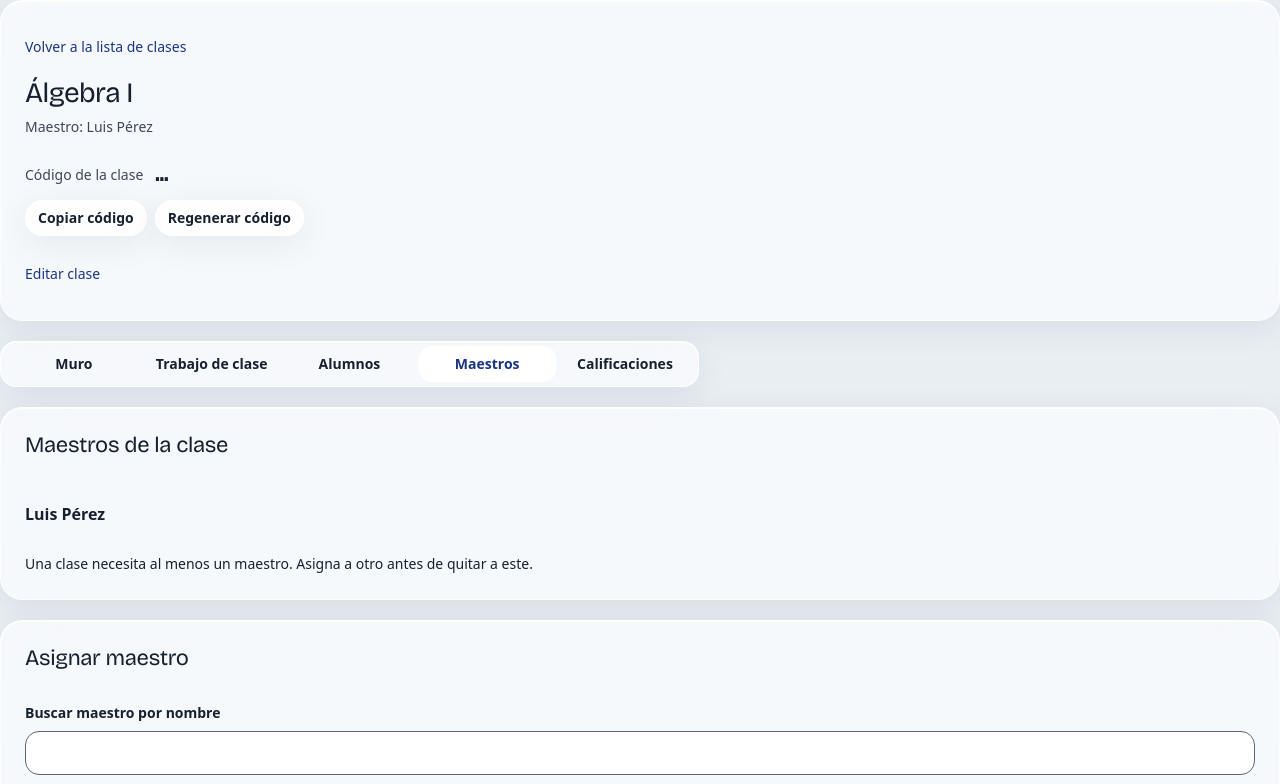
Scenario: ataque CLASES-02c r2: la ventana entre el 200 y la recarga, en los hermanos de T-02 › «Asignar a la clase» (maestros), segundo clic a 0 ms tras el repintado (botón ya en espera): una sola petición, un solo aviso, el botón en espera (aria-busy, si
Check: the heading "Maestros de la clase" is shown, box [25, 432, 228, 458]
Type "Mari" into the field labelled "Buscar maestro por nombre" at (640, 753), box [25, 731, 1255, 775]
(page scrolled)
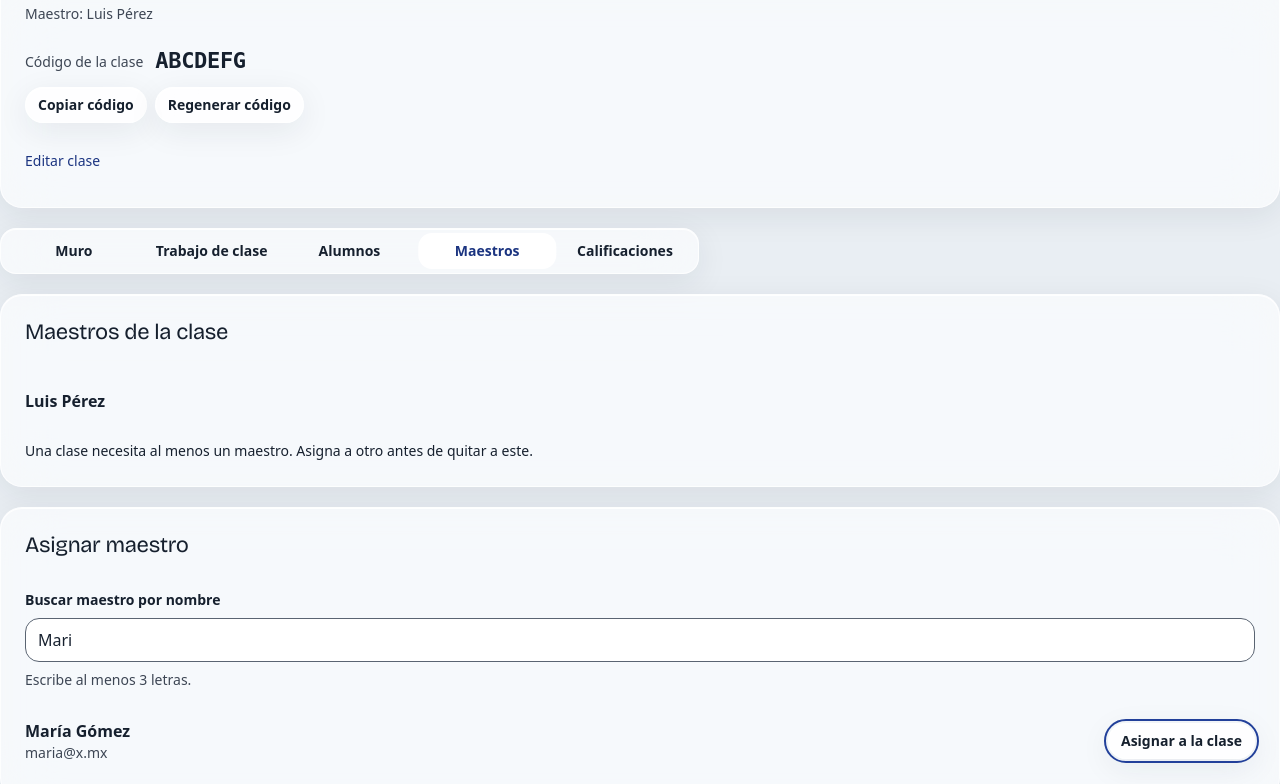
Click the button named "Asignar a la clase María Gómez" at (1182, 741), box [1108, 723, 1255, 759]
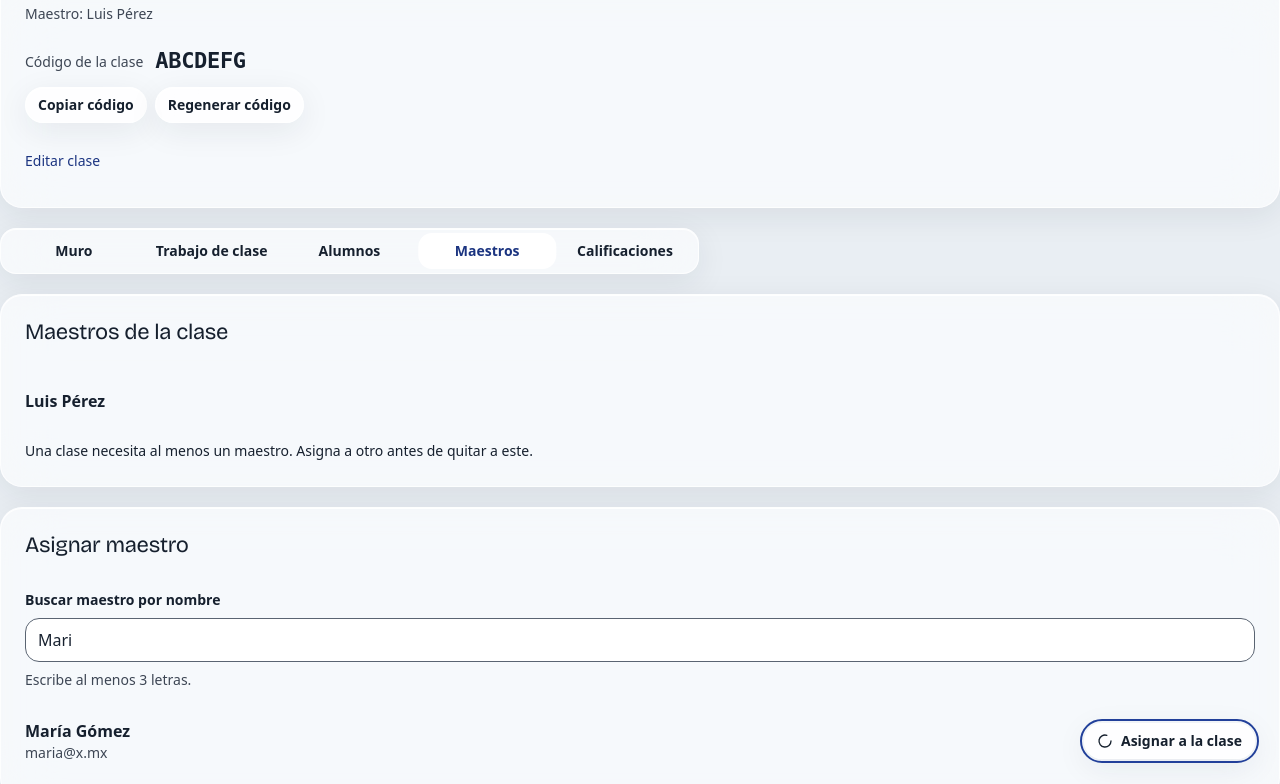
Check: the button named "Asignar a la clase María Gómez" has attribute aria-busy="true"
Click the button named "Asignar a la clase María Gómez" at (1170, 741), box [1084, 723, 1255, 759]
(page scrolled)
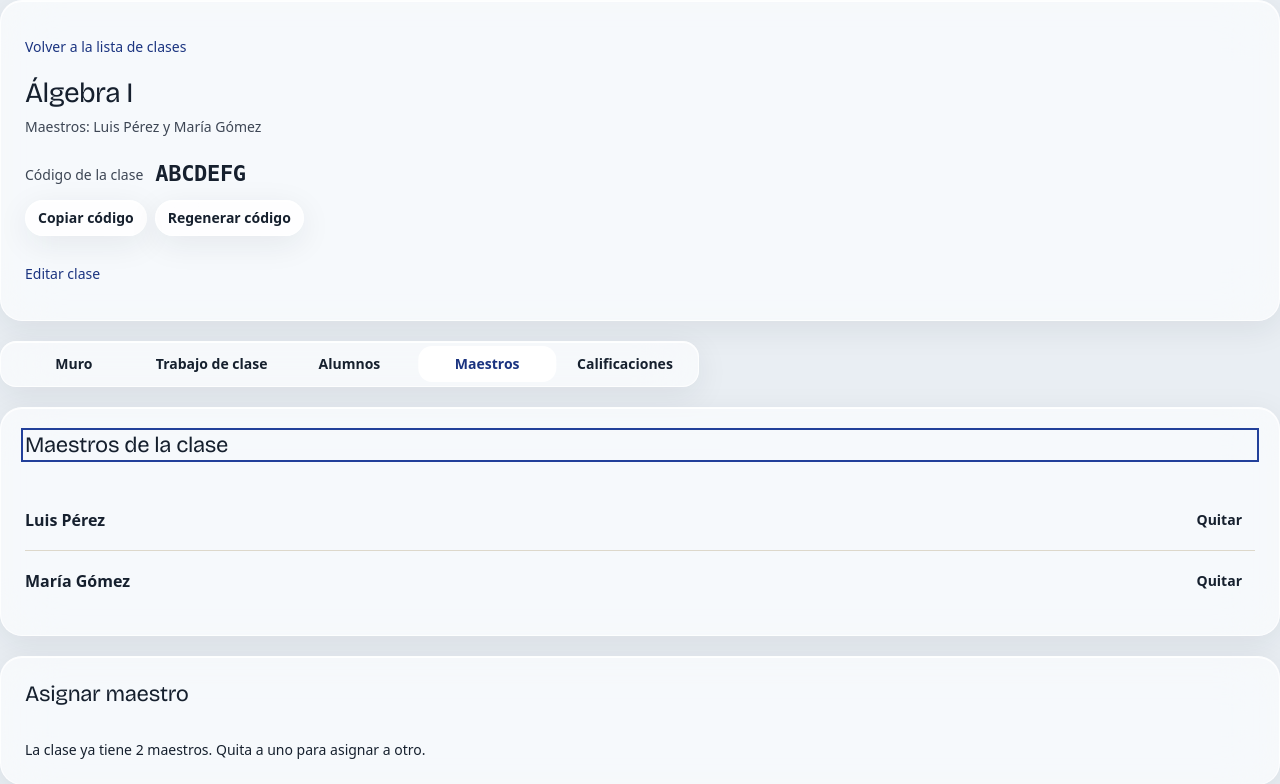
Check: the text "La clase ya tiene 2 maestros. Quita a uno para asignar a otro." is shown, box [25, 740, 426, 759]
